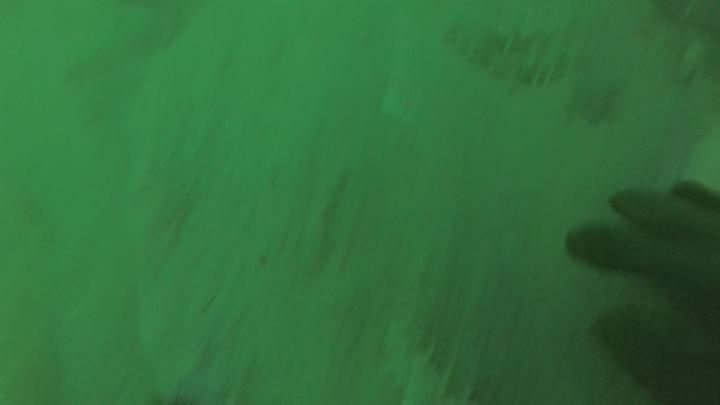holothurian: (438, 19, 579, 94), (370, 311, 469, 405)
starfish: (159, 308, 258, 405), (560, 65, 626, 127)
